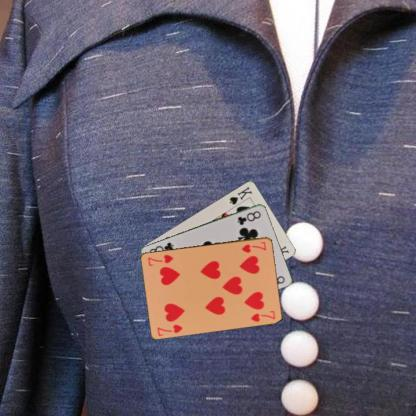7h: (238, 239, 268, 254), (155, 322, 184, 337)
8c: (235, 208, 262, 226)
Ks: (227, 184, 254, 206)
